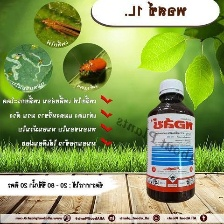insecticide: (142, 76, 199, 205)
